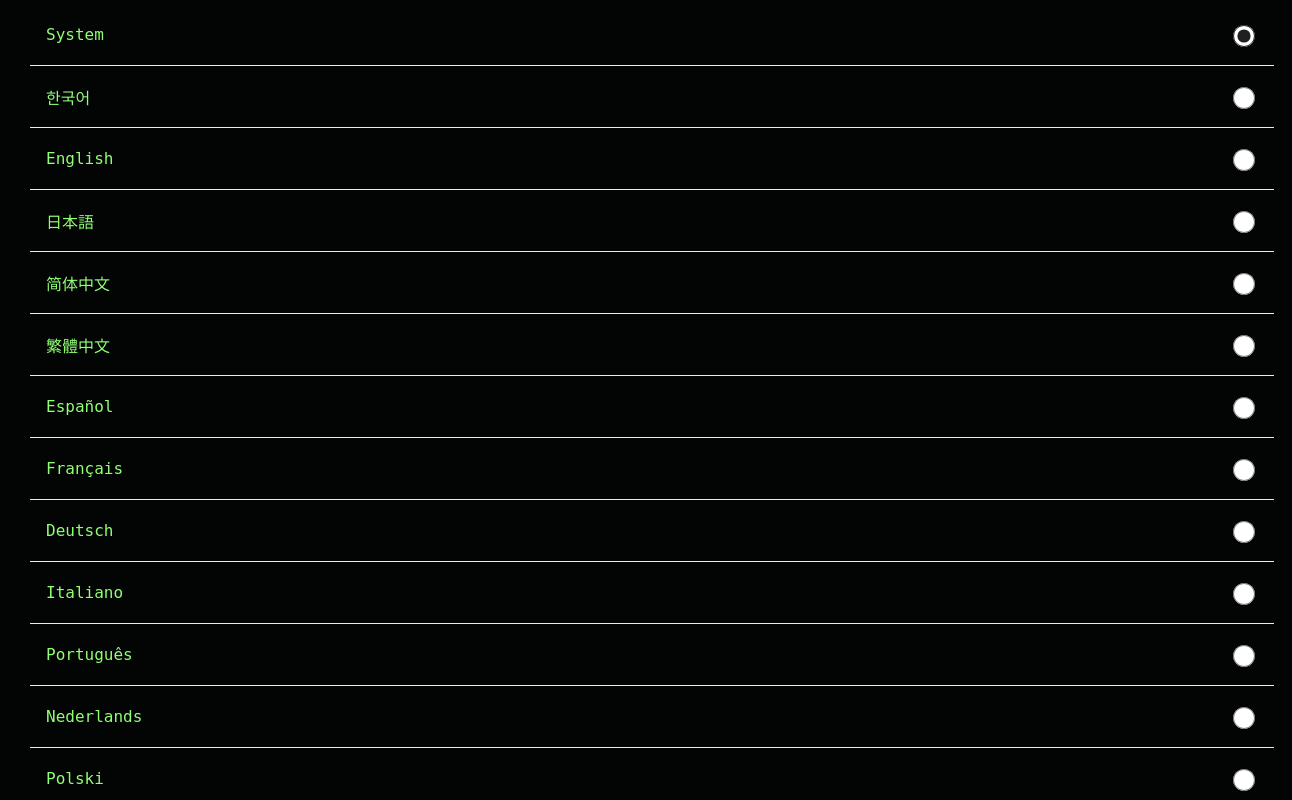
Test case: LanguageScreen › reports a local-storage failure instead of silently reverting
What coordinates should you click on to do the following:
click the radio button labelled "English"
I would click on:
 (1244, 160)
Its box is [1233,149,1255,171].
(page scrolled)
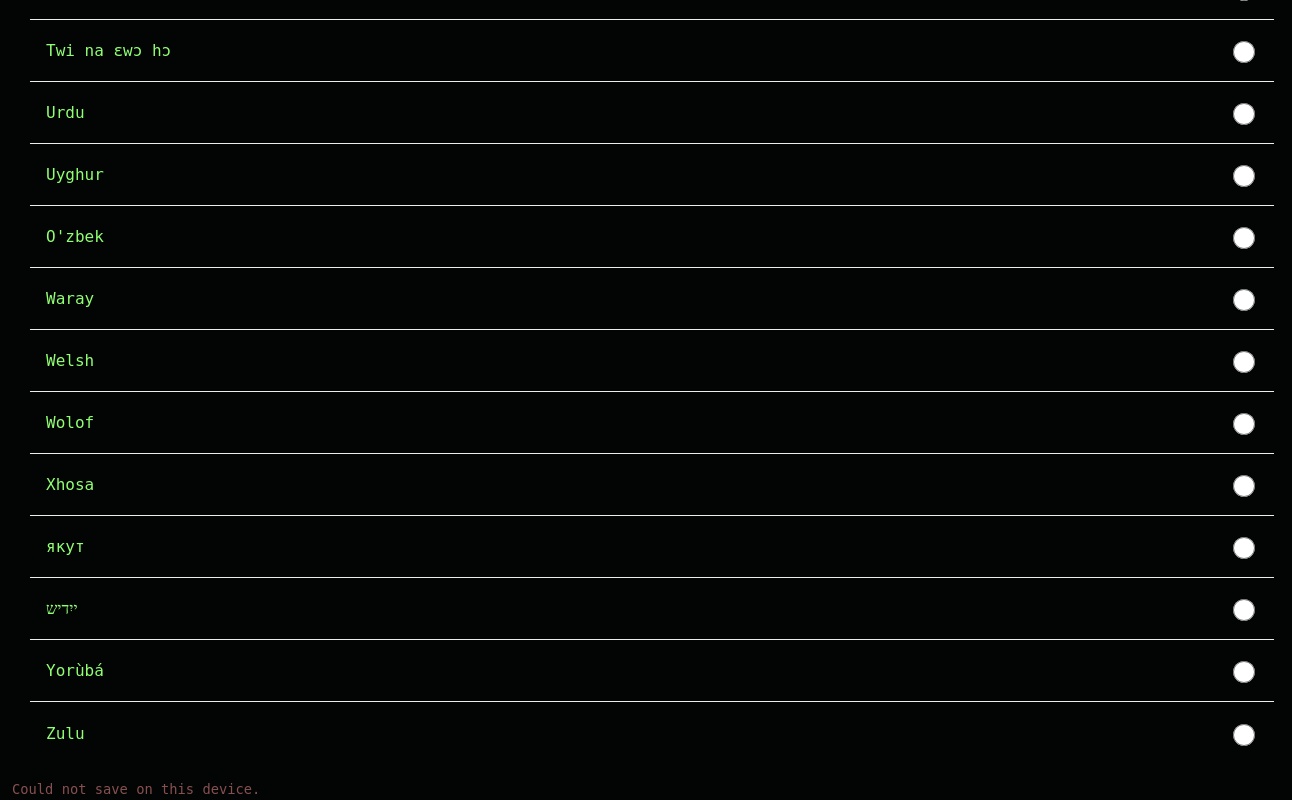
Expected: the message reads "Could not save on this device.", [12,781,260,797]
